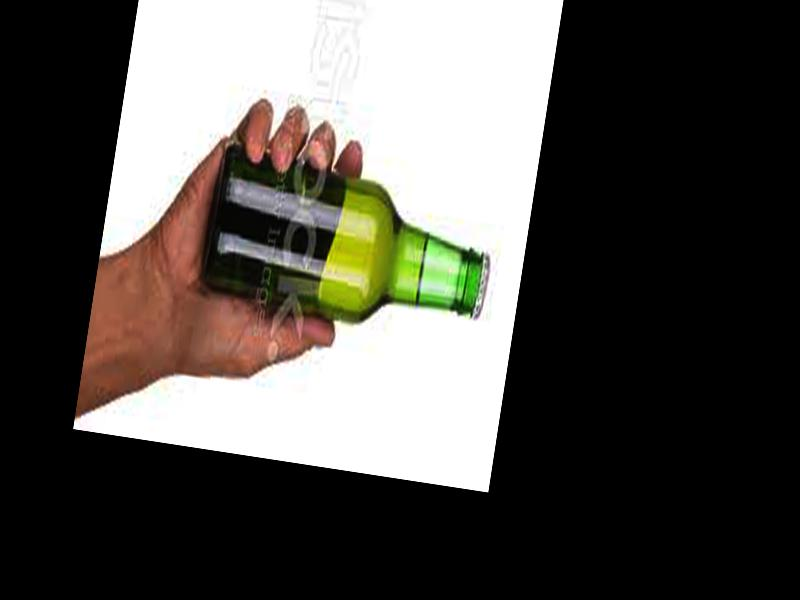Beer: (198, 151, 501, 345)
